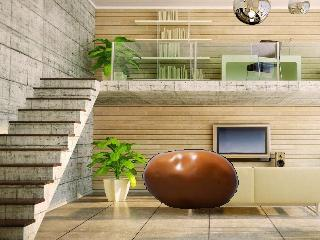potato: (141, 146, 242, 212)
